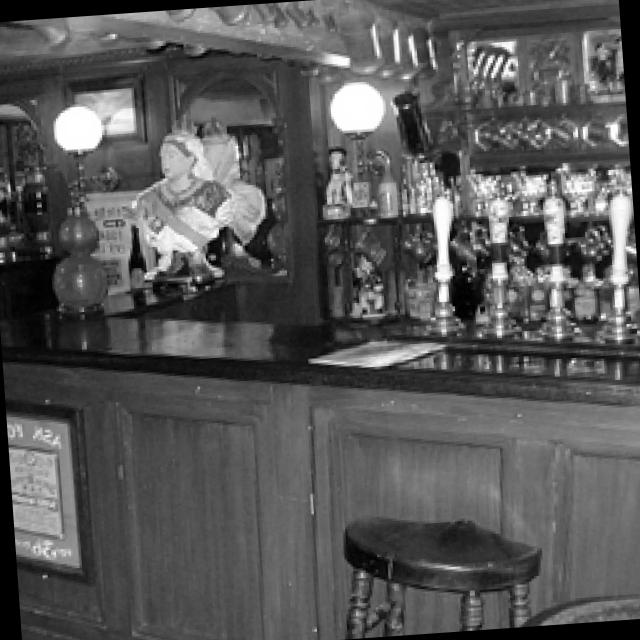bar stool: (7, 265, 640, 640)
beer machine: (542, 173, 579, 336), (488, 194, 521, 332)
bottle crop: (60, 179, 110, 311)
ceiling beam: (361, 0, 619, 29)
decoration -X: (132, 127, 241, 293)
lamp crop: (56, 102, 124, 182), (333, 79, 390, 167)
mug: (339, 8, 387, 71)
paper cup with straws: (310, 333, 447, 366)
shelf crop: (443, 143, 627, 171), (434, 96, 624, 122)
stool occluded: (342, 511, 544, 635)
wall clock: (26, 0, 440, 320), (0, 20, 321, 315), (430, 16, 638, 318)
